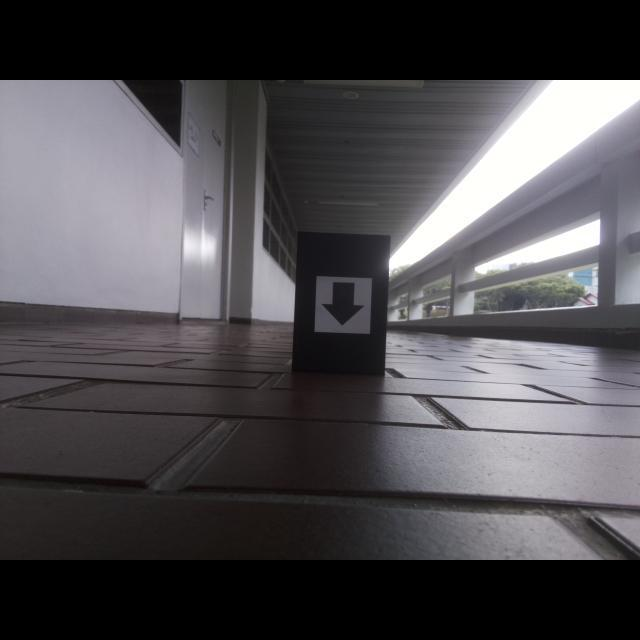DOWN: (320, 282, 365, 327)
